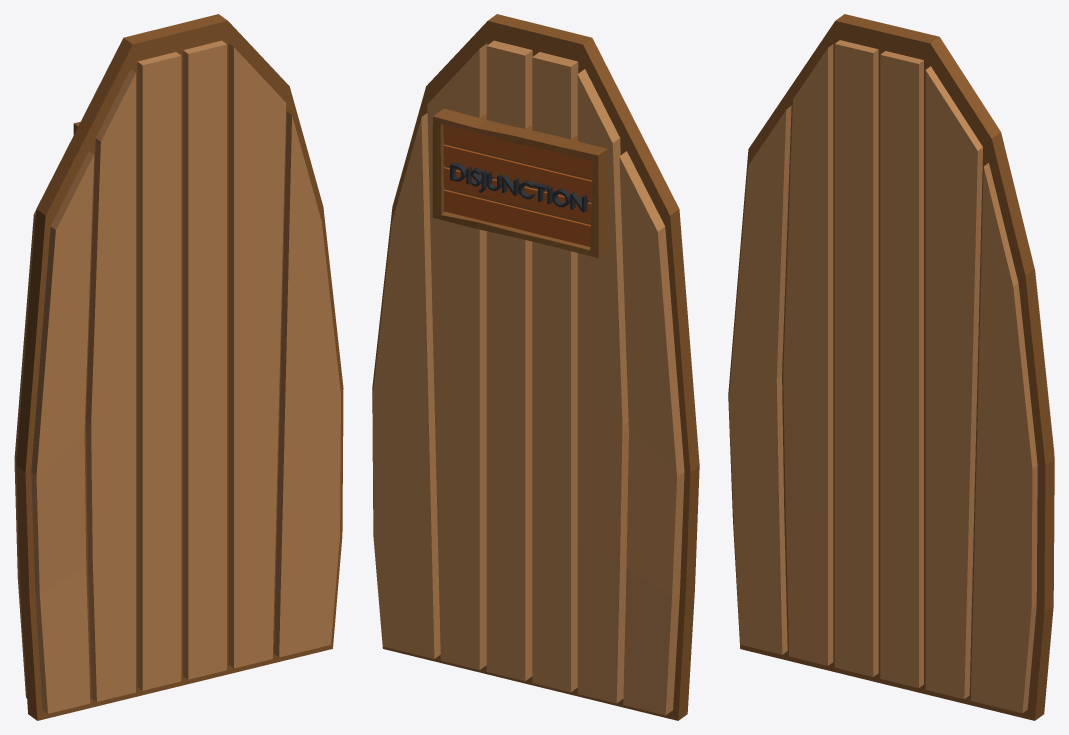
The model's file is ORDOOR.fbx.
3 renders of one model, left to right at view 1: azimuth 30°, elevation 25°; view 2: azimuth 150°, elevation 25°; view 3: azimuth 330°, elevation 25°, orthographic.
Visible parts, largest first — view 1: Cube.220; view 2: Cube.220; view 3: Cube.220.
Part boxes in pixels (x1,y1,x2,y2): Cube.220: [14, 14, 343, 720]; Cube.220: [372, 14, 699, 720]; Cube.220: [728, 14, 1054, 720].
Bounding box in the file's own units: 318 × 625 × 55.67.
